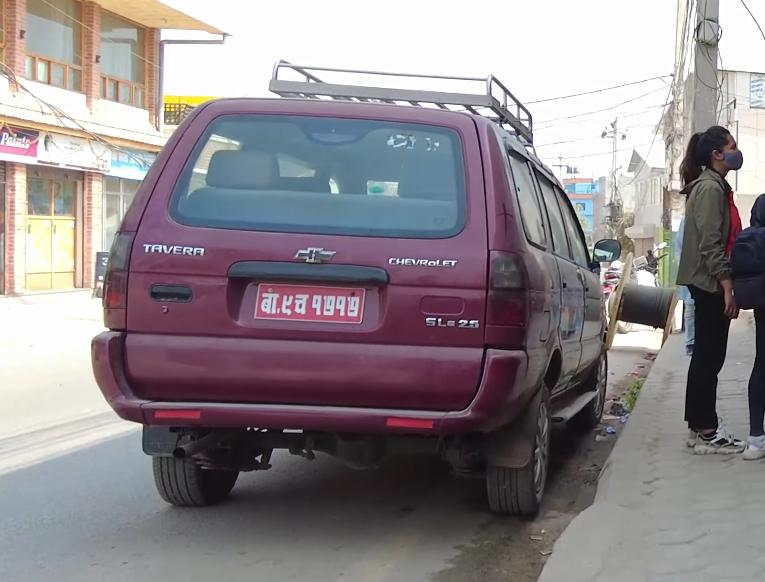SUV: (88, 52, 622, 515)
